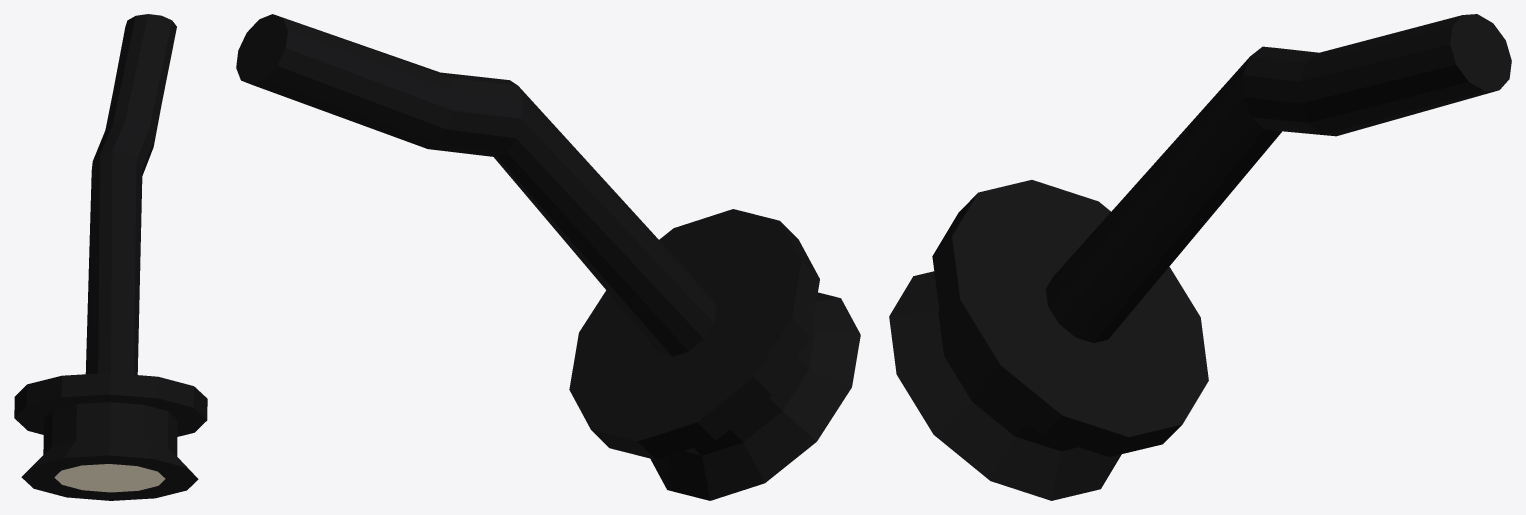
File: Corridor_Lamp.fbx
3 views of the same model, side by side, from view 1: azimuth 30°, elevation 25°; view 2: azimuth 150°, elevation 25°; view 3: azimuth 270°, elevation 25° (orthographic). The views are drawn at different scales.
Visible parts, largest first — view 1: Corridor_Lamp; view 2: Corridor_Lamp; view 3: Corridor_Lamp.
Boxes of the visible parts, left/top/right/bottom form: Corridor_Lamp: left=14, top=14, right=207, bottom=500; Corridor_Lamp: left=236, top=14, right=860, bottom=500; Corridor_Lamp: left=889, top=14, right=1511, bottom=500.
Size of the model in its own units: 14.77 by 18.5 by 17.65.
